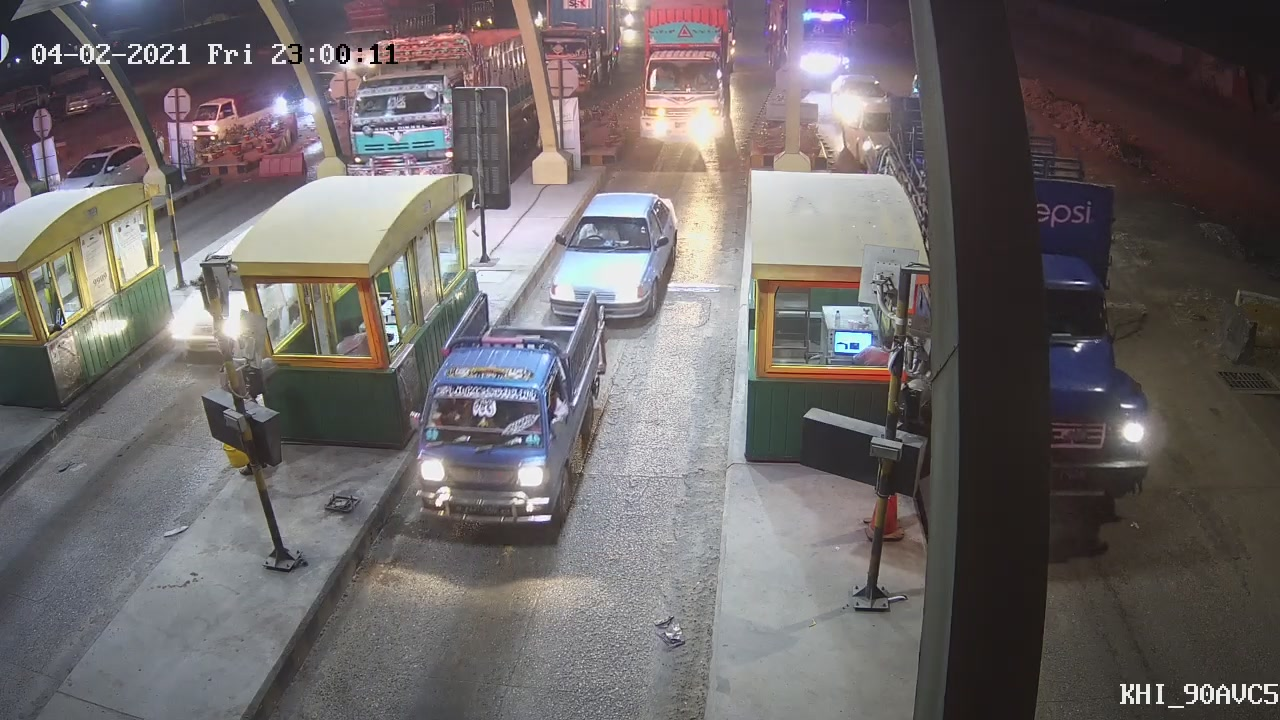F1: (408, 290, 618, 532), (542, 188, 683, 327)
